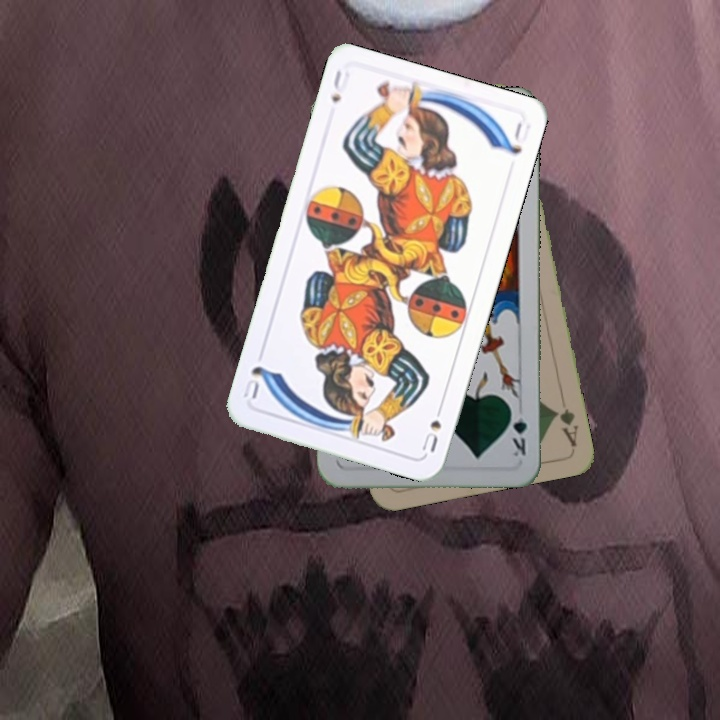GA: (550, 405, 581, 450)
GK: (507, 402, 530, 459)
SU: (418, 398, 446, 455), (327, 66, 353, 105)
